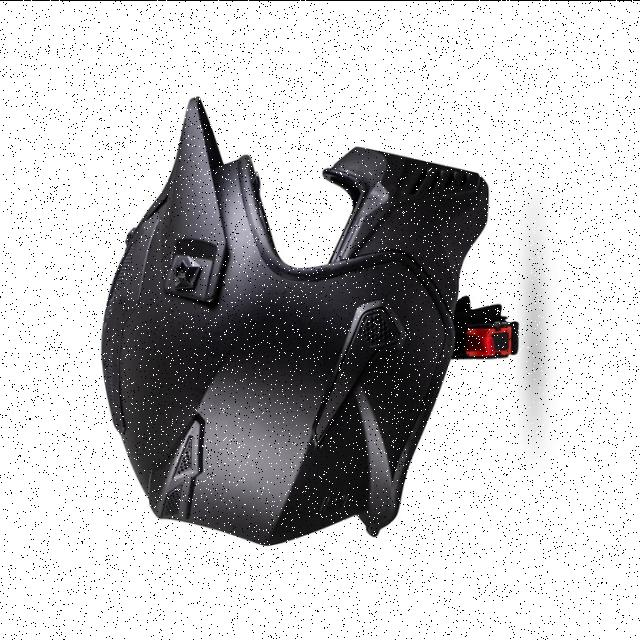Helmet: (101, 95, 521, 547)
